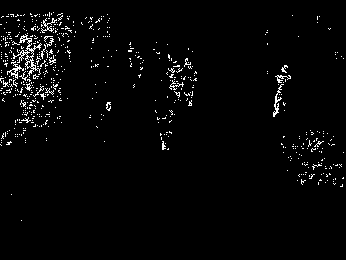person: (272, 63, 292, 118), (178, 56, 198, 107)
